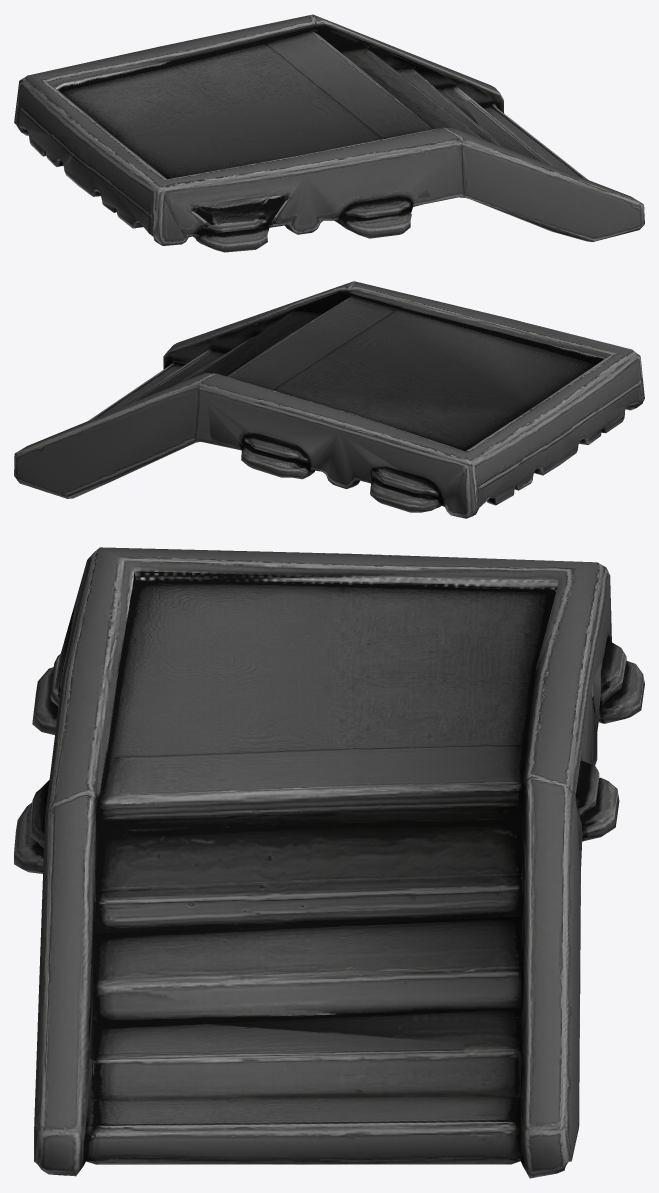
Rendered from tripo_convert_b1e6552c-7dc1-456e-a4a0-01e6d575f7a6.fbx.
3 views of the same model, one above another, from view 1: azimuth 30°, elevation 25°; view 2: azimuth 150°, elevation 25°; view 3: azimuth 270°, elevation 25° (orthographic). The views are drawn at different scales.
Visible parts, largest first — view 1: tripo_node_b1e6552c; view 2: tripo_node_b1e6552c; view 3: tripo_node_b1e6552c.
Boxes of the visible parts, x1,y1,x2,y2 form: tripo_node_b1e6552c: [14, 14, 644, 252]; tripo_node_b1e6552c: [14, 281, 644, 518]; tripo_node_b1e6552c: [14, 547, 644, 1178].
Size of the model in its own units: 0.998 by 0.2949 by 0.6738.
Materials: 1 (1 with a texture image).
